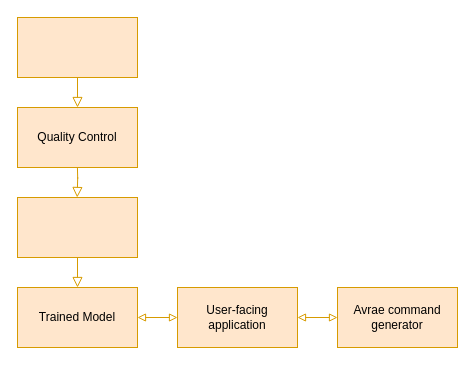
Image size: 475x365. Some labels were removed from this diagram. Each missing label, with the box of its shape:
Aggregation: (16, 196, 138, 258)
Data Collection via Amazon Mechanical Turk: (16, 16, 138, 78)
